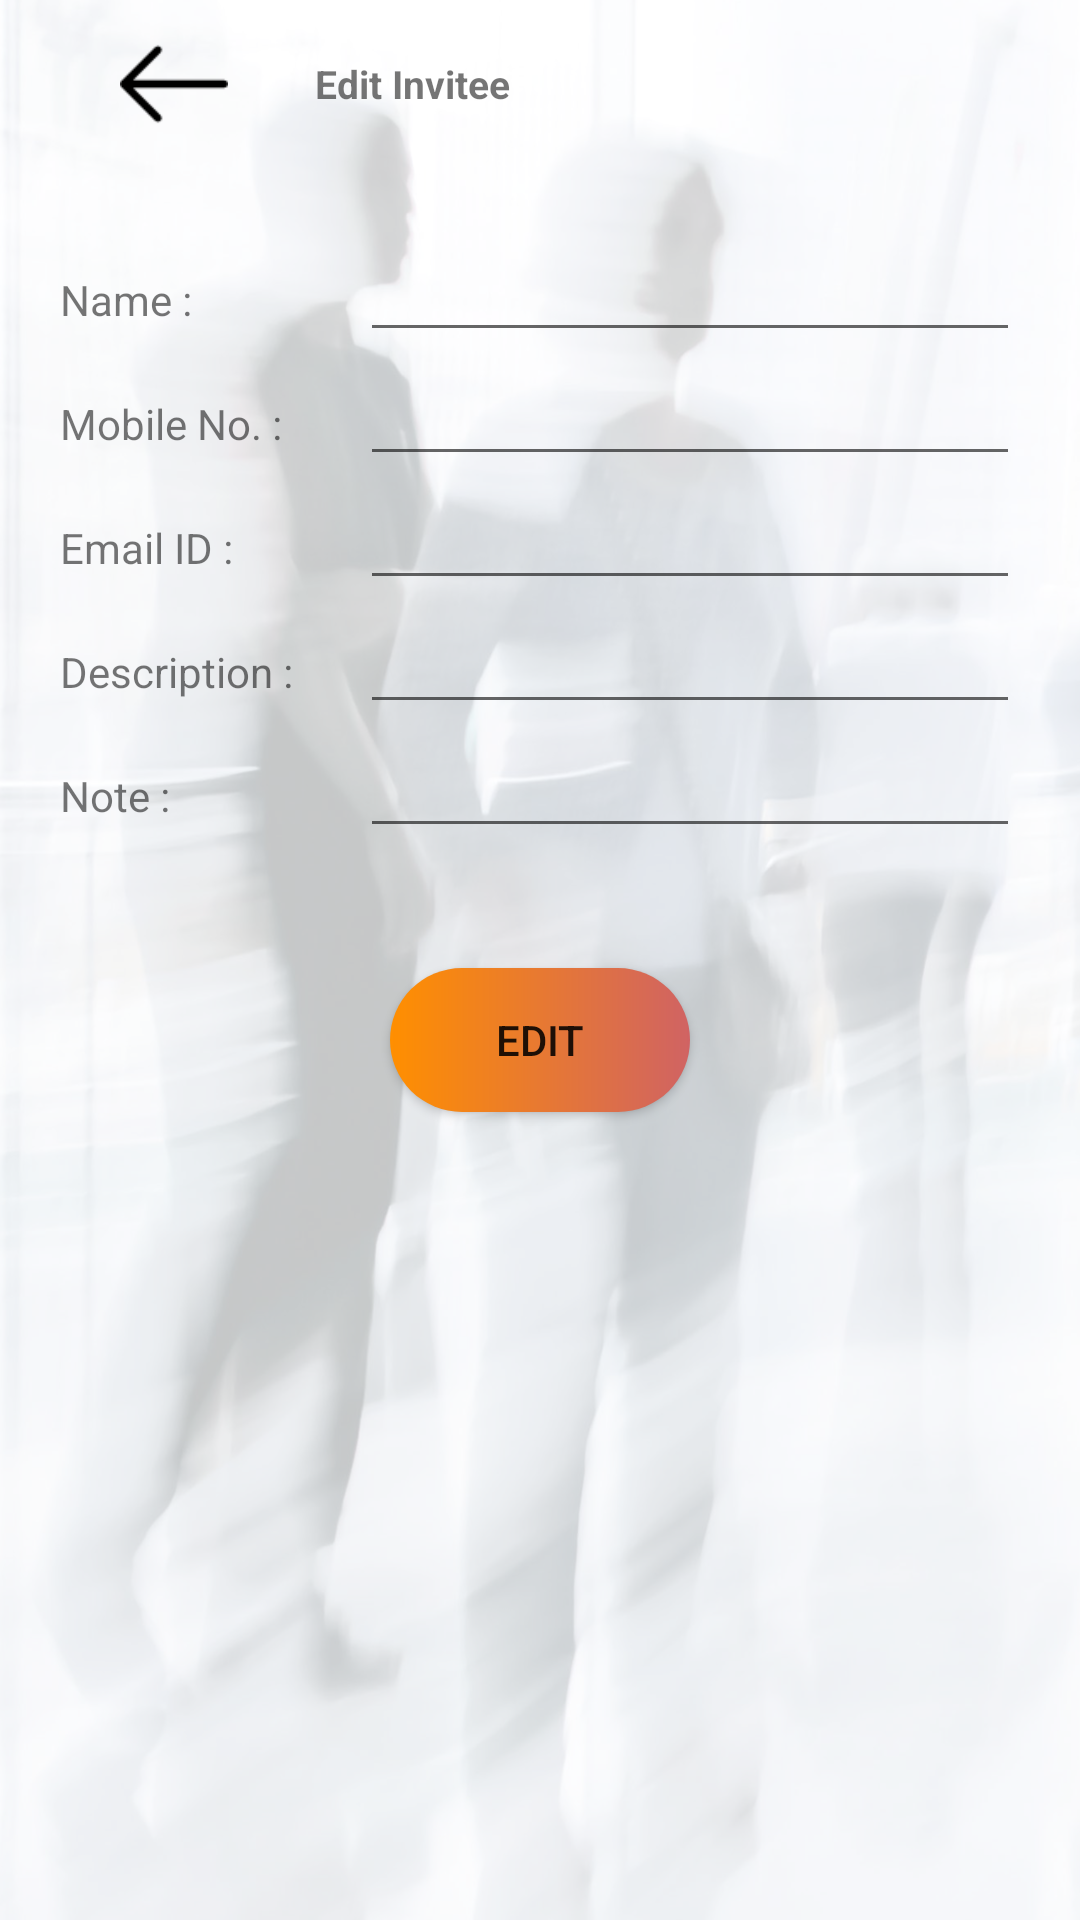

Icons on this 1080w x 1920h Android screen, each with the point to tap as (x=x, y=y):
back arrow: (x=174, y=84)
